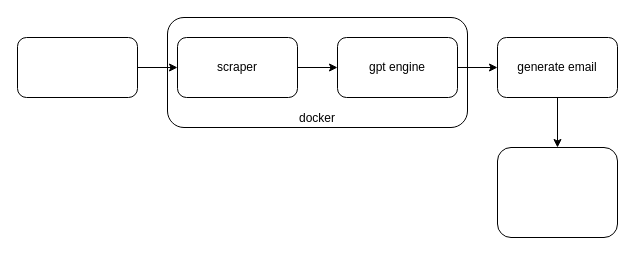
This 635x255 diagram has some shape labels left out. The shapes that lost their labels are listed below. From the top down, each one's box as (x1, y1, x2, y2) in pixels, then its label:
(16, 36, 138, 98): jobsdb
(496, 146, 618, 238): output file
